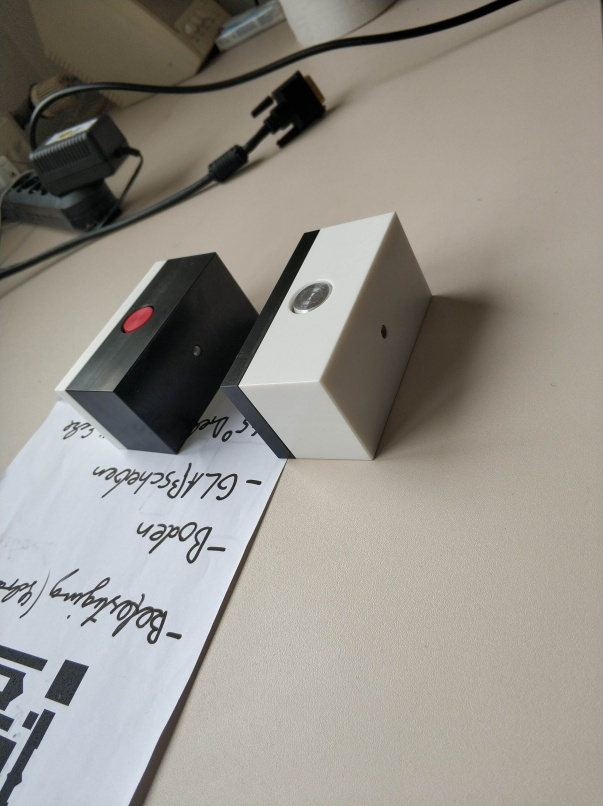black+white+silver: (224, 208, 432, 465)
white+black+red: (53, 246, 263, 458)
